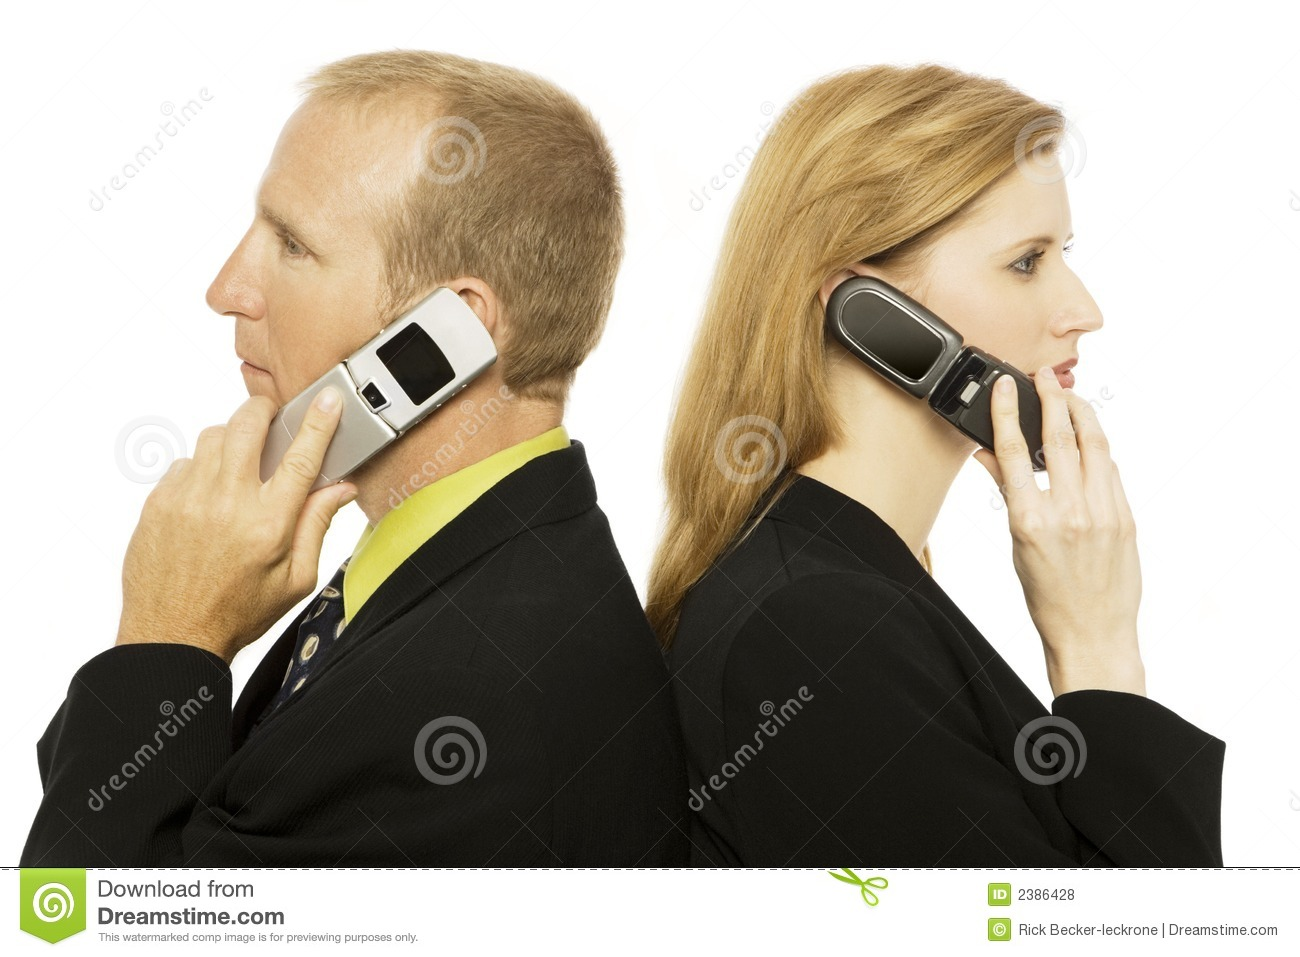phone: (244, 287, 498, 519), (833, 272, 1084, 484)
talk: (109, 182, 501, 662), (821, 232, 1150, 673)
